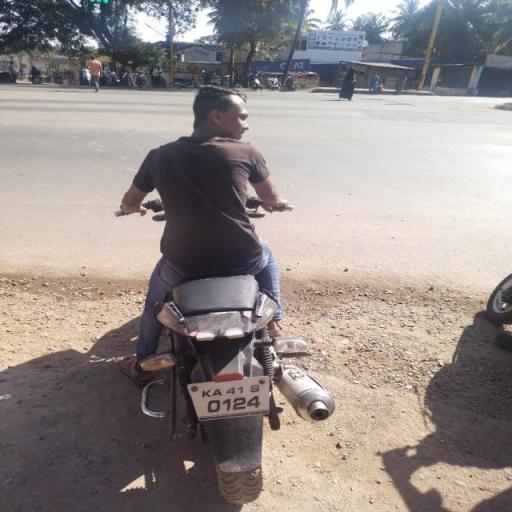bike: (90, 80, 348, 506)
numberplate: (188, 373, 278, 423)
withouthelmet: (196, 89, 249, 140)
